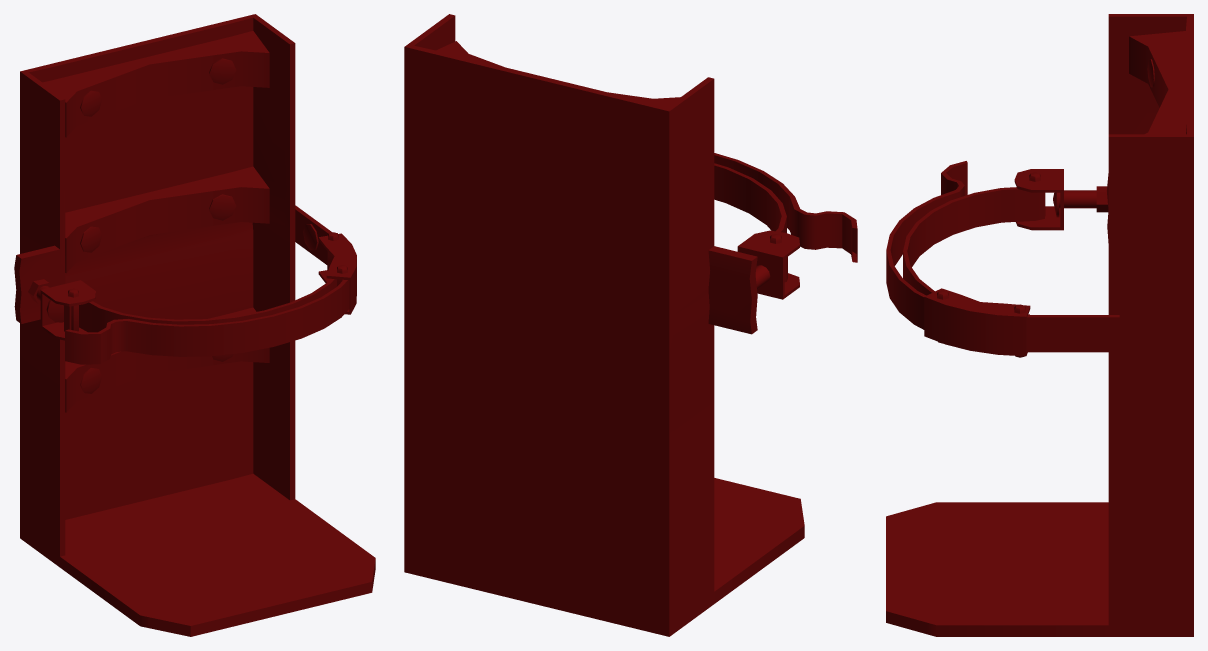
The model's file is Fire Extingisher holder.FBX.
The picture shows the model from 3 angles, left to right: view 1: azimuth 30°, elevation 25°; view 2: azimuth 150°, elevation 25°; view 3: azimuth 270°, elevation 25°; orthographic projection. The views are drawn at different scales.
Parts seen in each view (by area): view 1: Fire Extinguisher Holder; view 2: Fire Extinguisher Holder; view 3: Fire Extinguisher Holder.
Boxes of the visible parts, <box> form: Fire Extinguisher Holder: <box>14,14,375,636</box>; Fire Extinguisher Holder: <box>404,14,857,636</box>; Fire Extinguisher Holder: <box>886,14,1193,636</box>.
Bounding box in the file's own units: 28.6 × 41.92 × 23.39.
